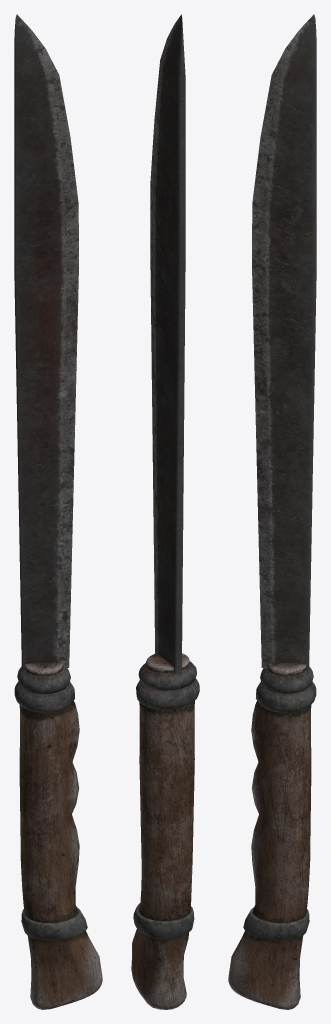
The model's file is machete.glb.
3 renders of one model, left to right at view 1: azimuth 90°, elevation 25°; view 2: azimuth 210°, elevation 25°; view 3: azimuth 270°, elevation 25°, orthographic.
Visible parts, largest first — view 1: machete; view 2: machete; view 3: machete.
Part boxes in pixels (x1,y1,x2,y2): machete: (14, 14, 102, 1009); machete: (131, 14, 199, 1009); machete: (228, 14, 316, 1009).
Bounding box in the file's own units: 0.0444 × 0.7548 × 0.0611.
1 material, 1 textured.
